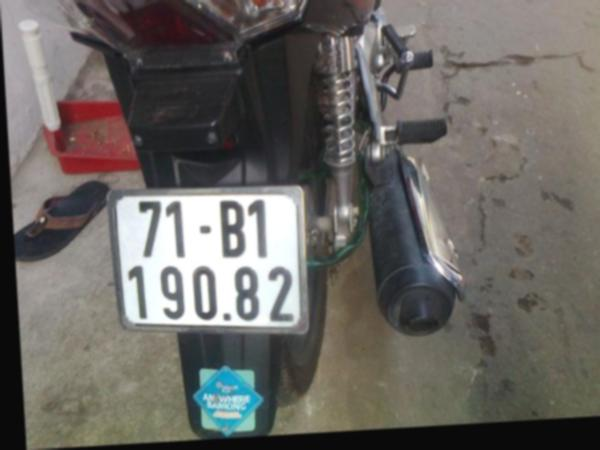License_Plate: (118, 185, 299, 336)
